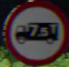Heavy Vehicles: (5, 9, 64, 57)
